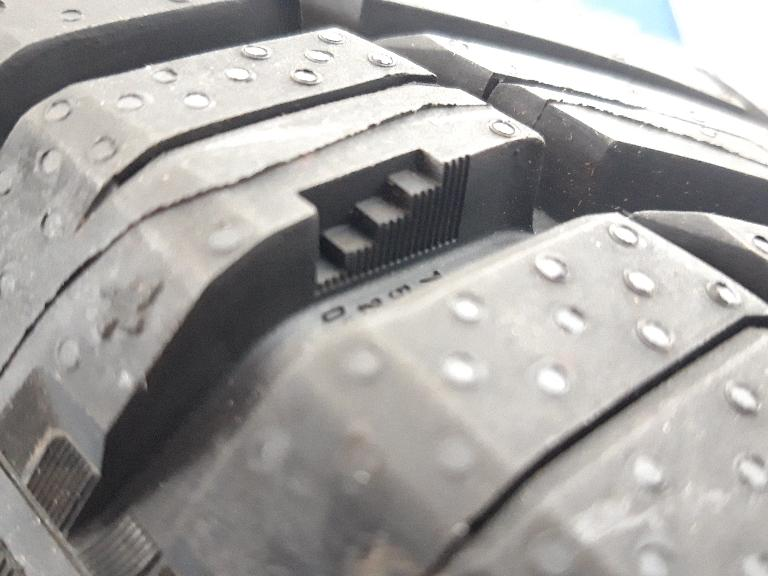temoin:100: (289, 137, 483, 307)
